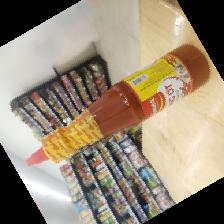Tuong: (23, 44, 209, 169)
